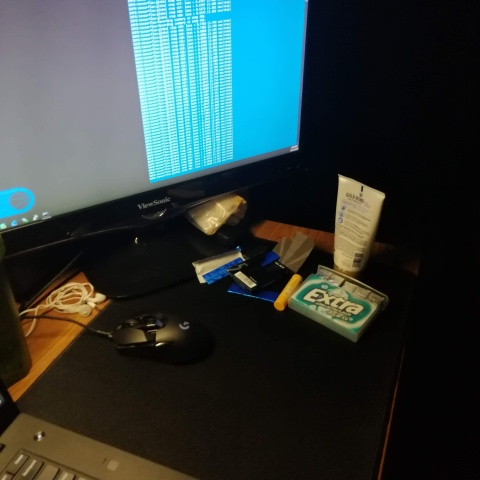chapstick: (273, 273, 303, 312)
